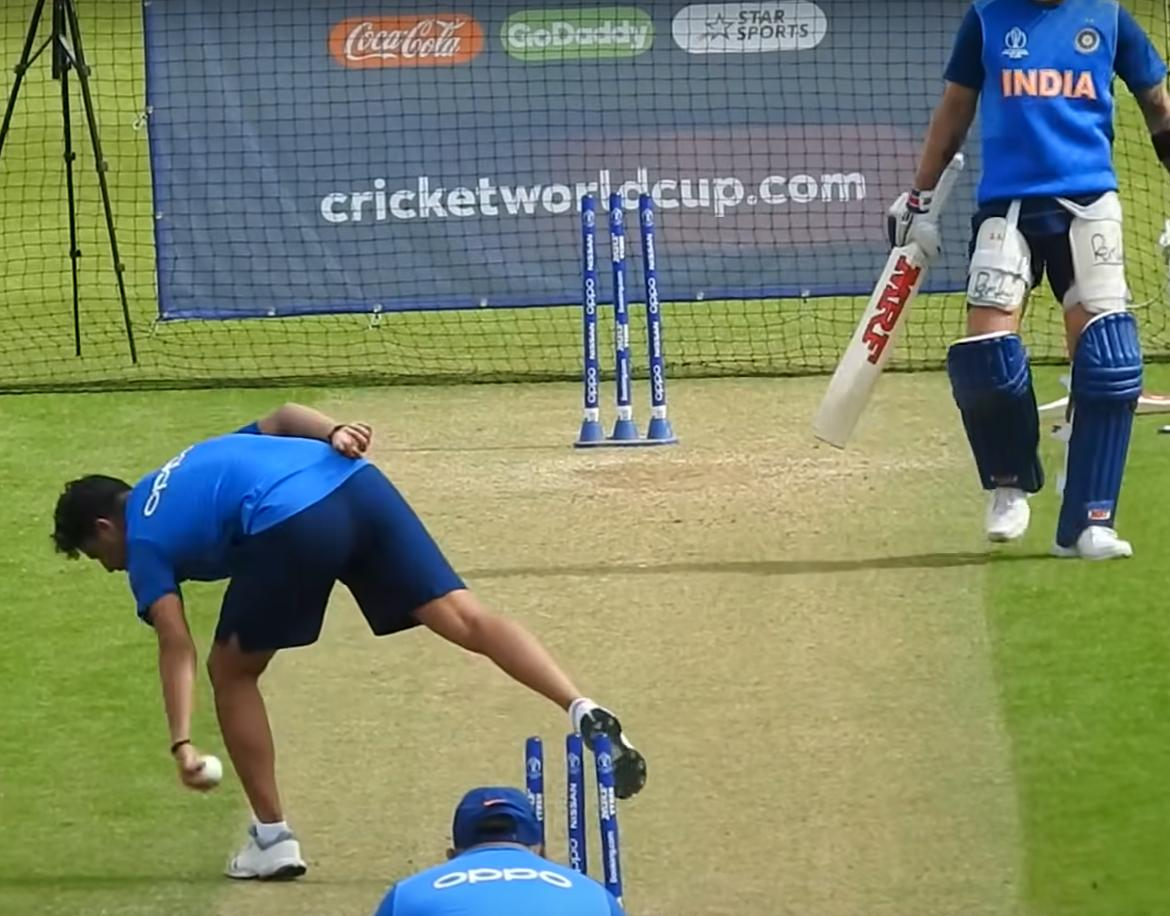Cricket-Ball: (191, 753, 226, 784)
